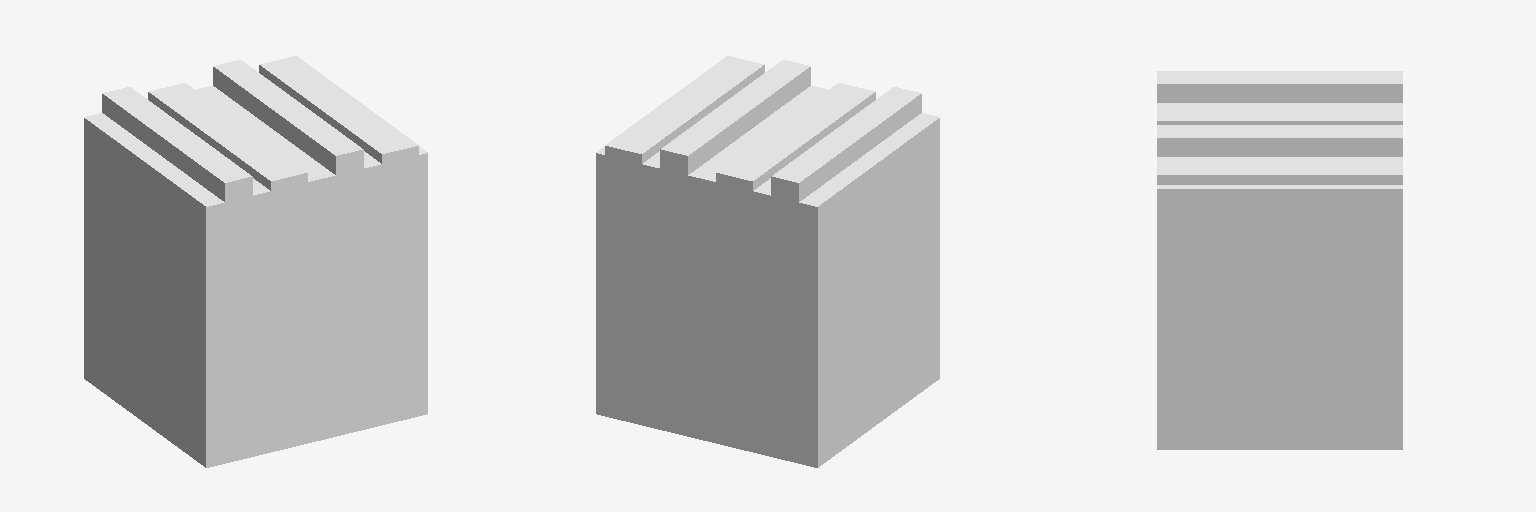
File: jalanpapan.obj
3 renders of one model, left to right at view 1: azimuth 30°, elevation 25°; view 2: azimuth 150°, elevation 25°; view 3: azimuth 270°, elevation 25°, orthographic.
Size of the model in its own units: 24 by 29 by 23.